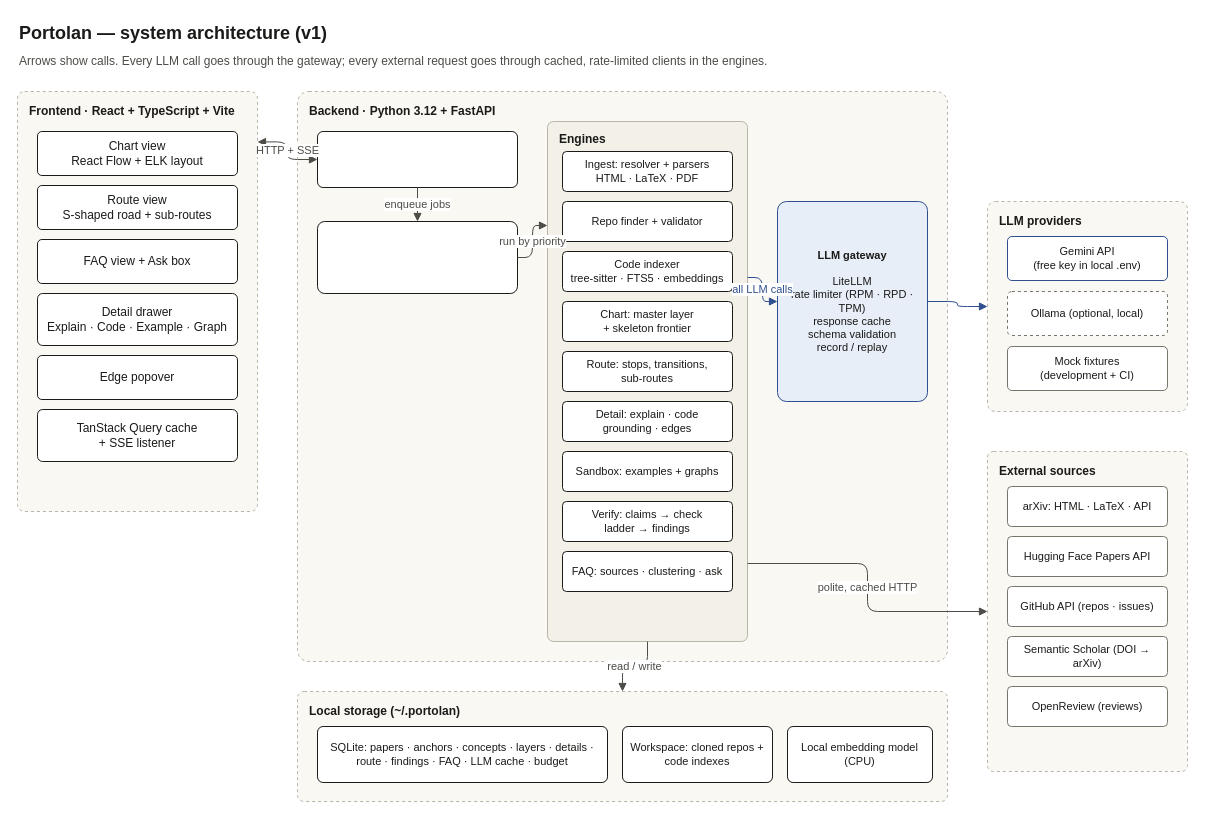
The diagram is 1205 pixels wide and 819 high, and some of its shapes have lost their labels. Here are the shapes that lost their labels. From the top down, the centre of each, then its label:
point (417, 159): REST API + SSE events
point (417, 257): Job orchestrator P0 user · P1 prefetch · P2 background
